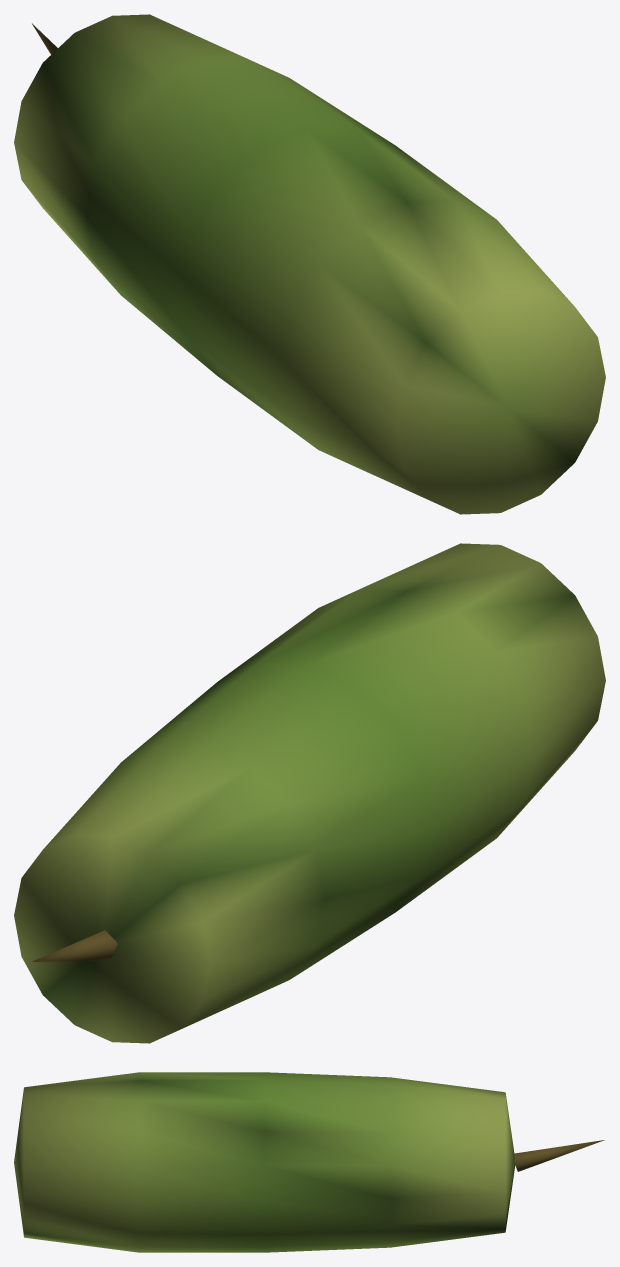
Rendered from Cradle.fbx.
The picture shows the model from 3 angles, top to bottom: view 1: azimuth 30°, elevation 25°; view 2: azimuth 150°, elevation 25°; view 3: azimuth 270°, elevation 25°; orthographic projection. The views are drawn at different scales.
Parts seen in each view (by area): view 1: Cradle; view 2: Cradle; view 3: Cradle.
Boxes of the visible parts, x1,y1,x2,y2 form: Cradle: (14, 14, 605, 514); Cradle: (14, 543, 605, 1043); Cradle: (14, 1072, 604, 1252).
Size of the model in its own units: 0.36 by 0.36 by 1.18.
